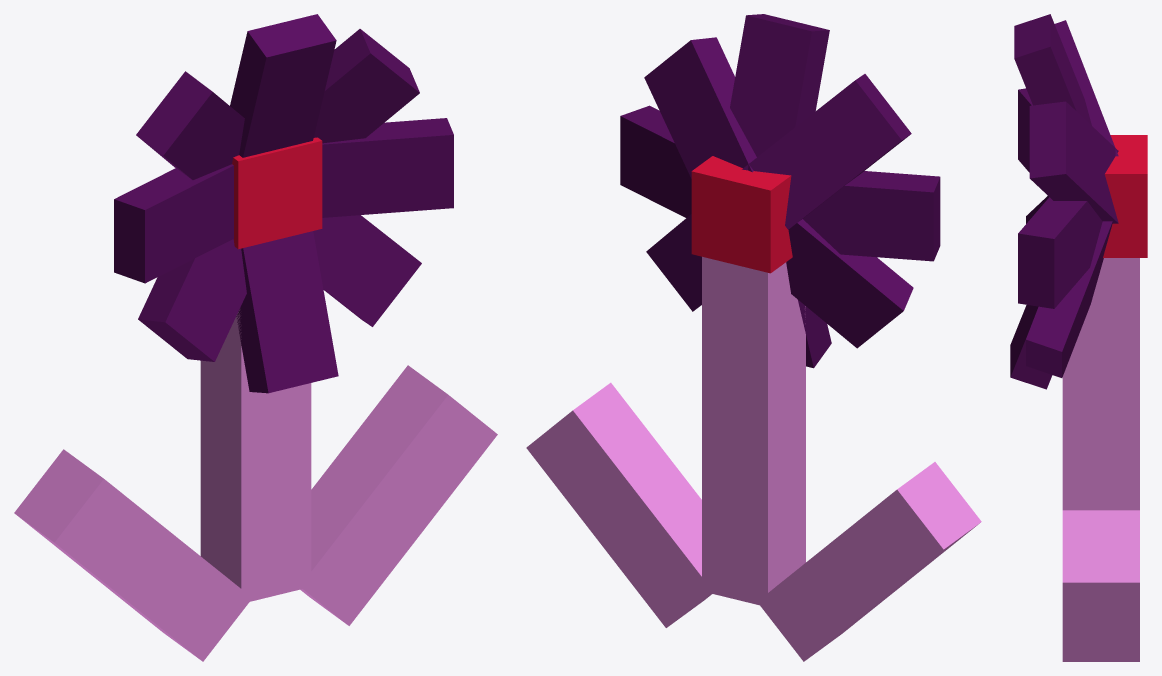
The model's file is PoisonFlower.fbx.
3 renders of one model, left to right at view 1: azimuth 30°, elevation 25°; view 2: azimuth 150°, elevation 25°; view 3: azimuth 270°, elevation 25°, orthographic. The views are drawn at different scales.
Parts seen in each view (by area): view 1: Cube.007, Cube.001, Cube.008; view 2: Cube.001, Cube.007, Cube.008; view 3: Cube.001, Cube.007, Cube.008.
Part boxes in pixels (x1,y1,x2,y2): Cube.007: [114, 14, 453, 393]; Cube.001: [14, 309, 497, 661]; Cube.008: [232, 137, 322, 249]; Cube.001: [526, 256, 981, 661]; Cube.007: [620, 14, 940, 368]; Cube.008: [691, 156, 792, 273]; Cube.001: [1062, 258, 1139, 661]; Cube.007: [1010, 14, 1118, 389]; Cube.008: [1103, 135, 1147, 257].
Size of the model in its own units: 127 by 171 by 35.54.
